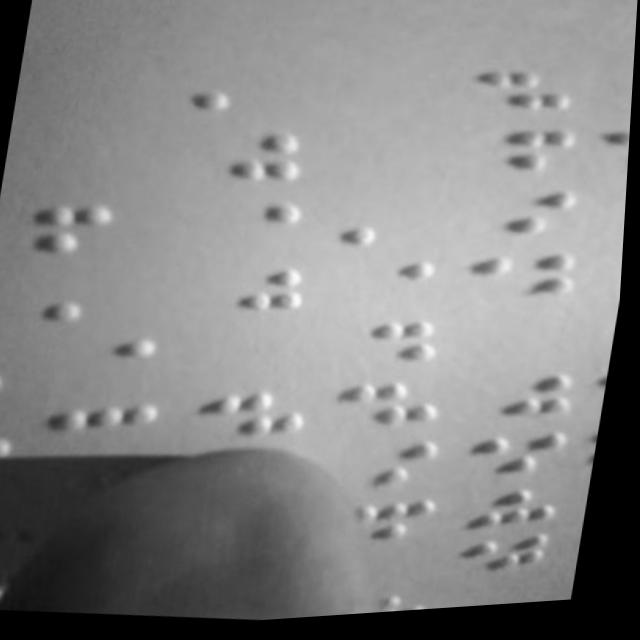braiile: (46, 393, 165, 484), (48, 328, 169, 410), (191, 261, 313, 338), (331, 374, 454, 449), (191, 121, 309, 199), (204, 382, 321, 460), (334, 433, 454, 506), (332, 315, 452, 384), (470, 248, 586, 319), (195, 195, 307, 266), (461, 482, 577, 550), (469, 126, 581, 194), (470, 64, 585, 128), (343, 256, 450, 323), (477, 367, 585, 431), (475, 189, 584, 250), (467, 428, 575, 488), (460, 532, 563, 591)
